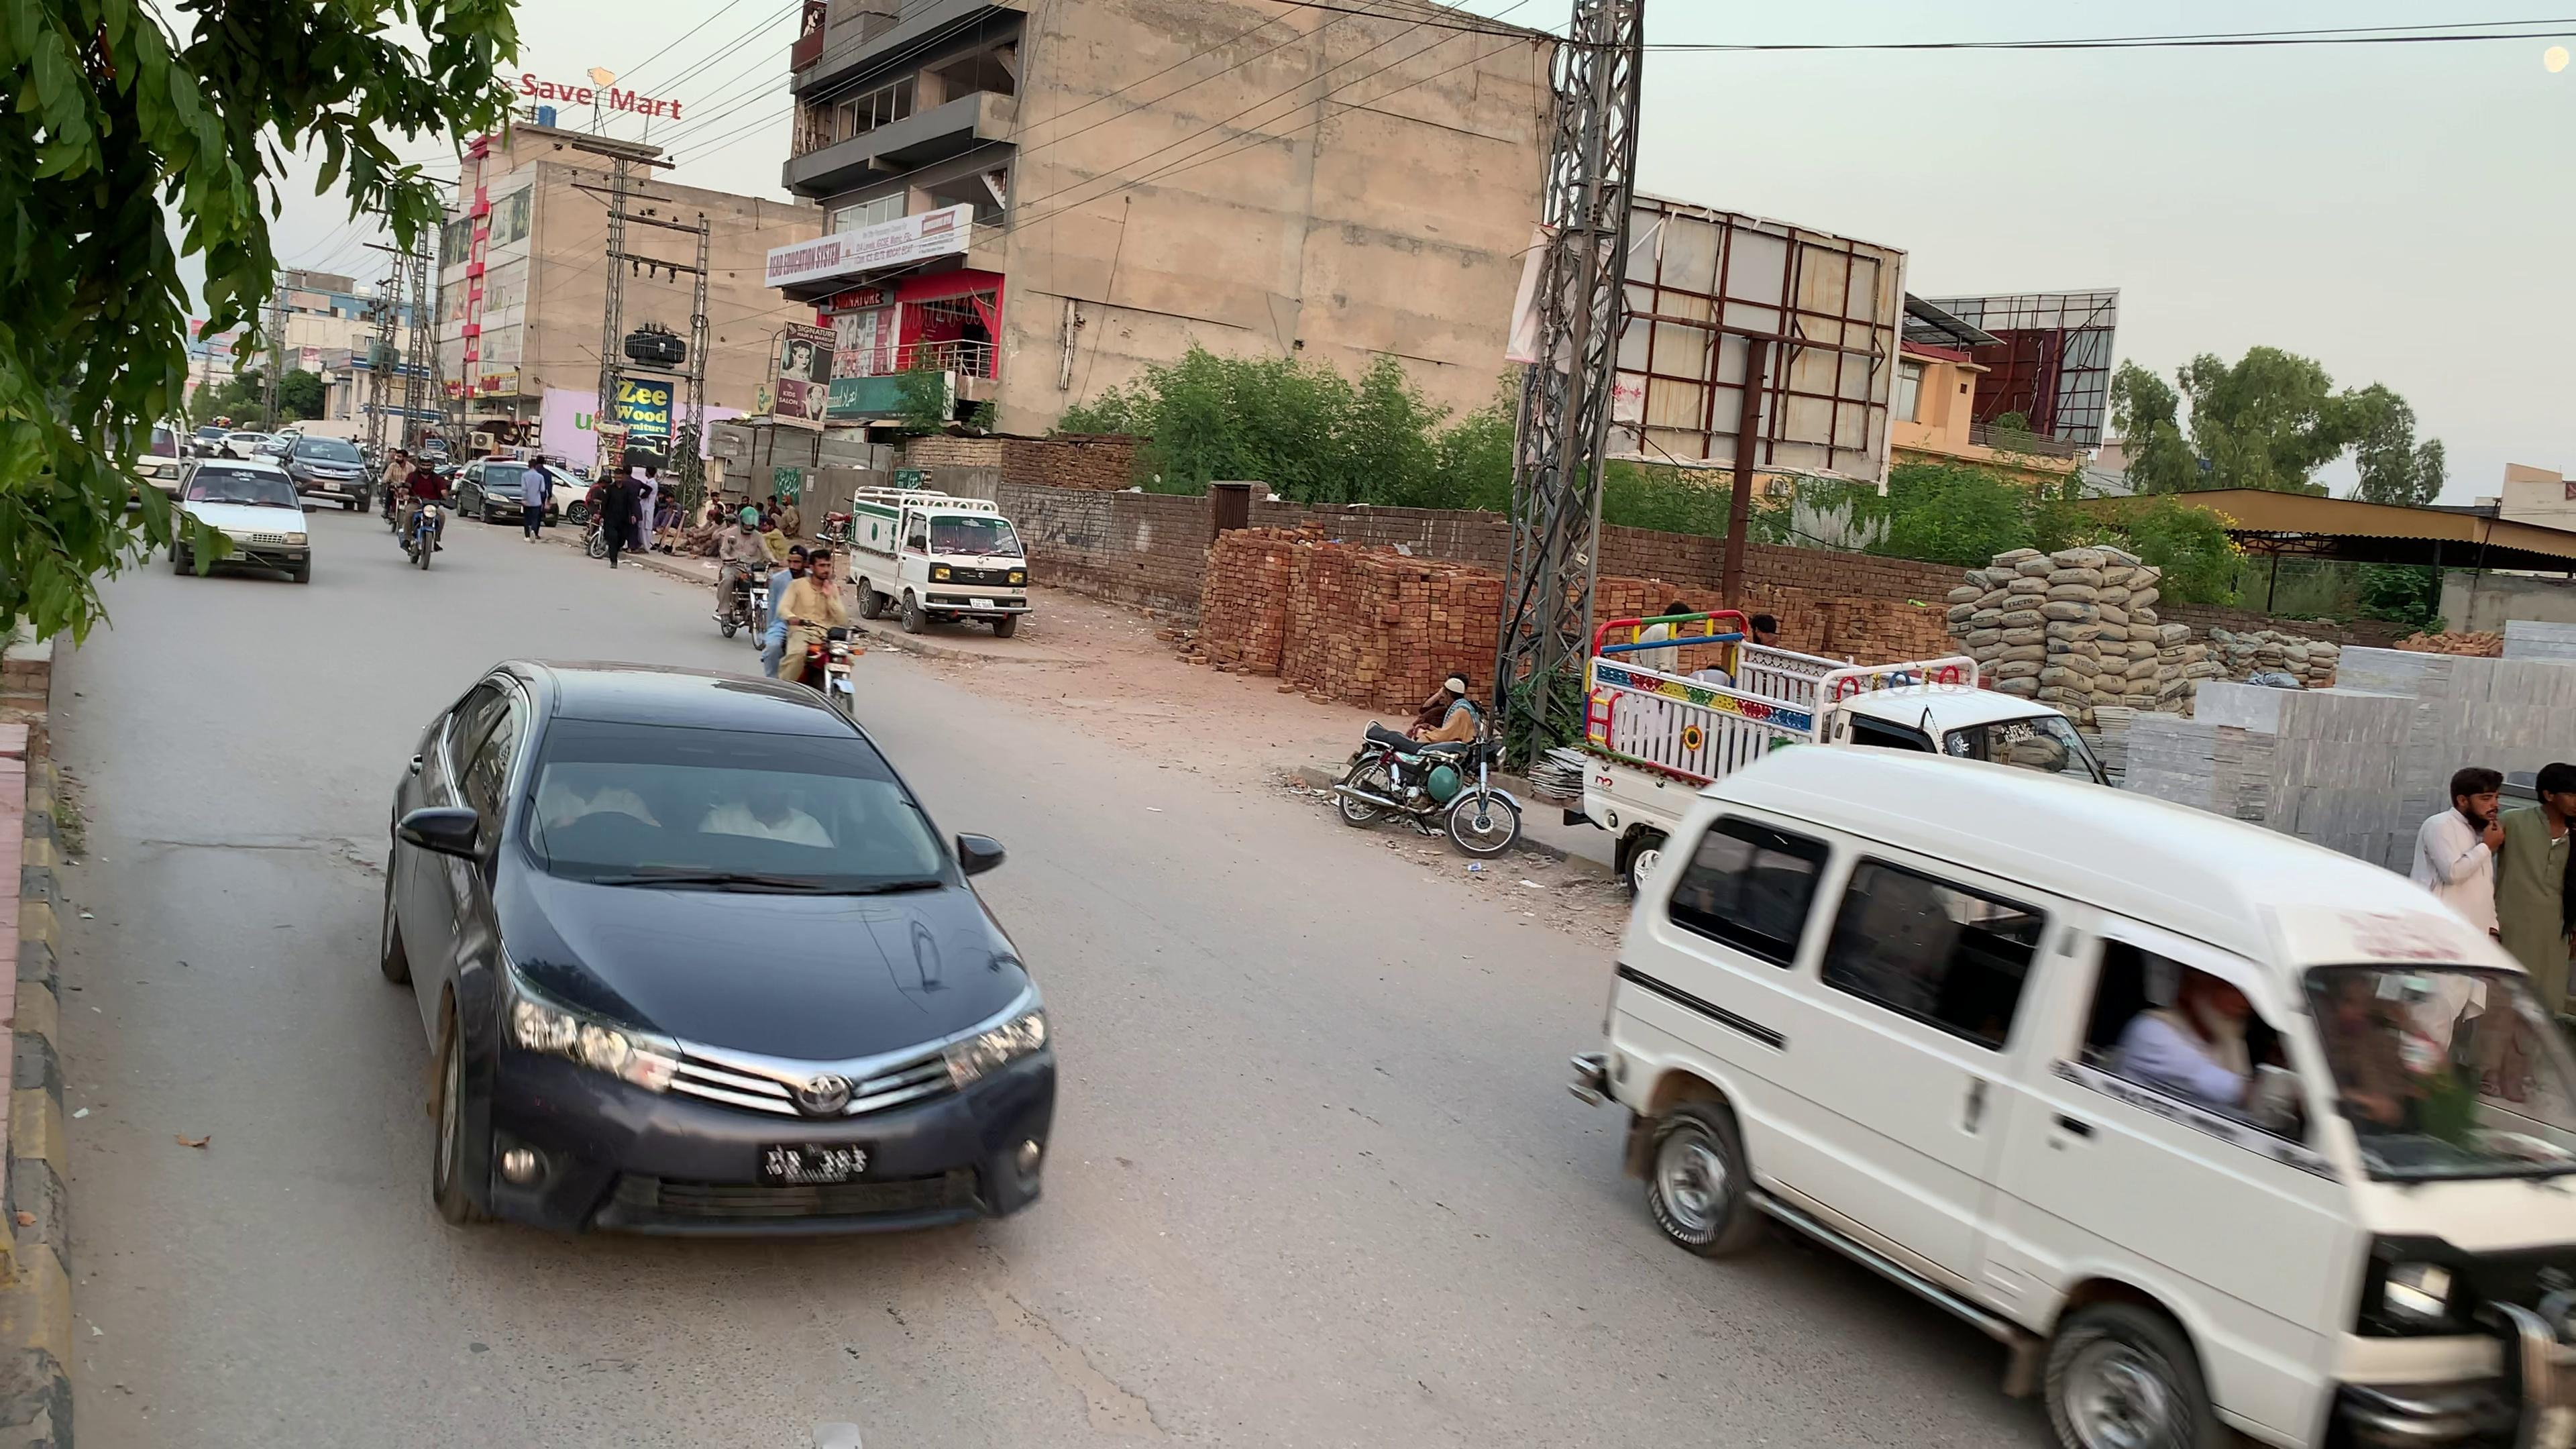windshield: (520, 715, 964, 879)
